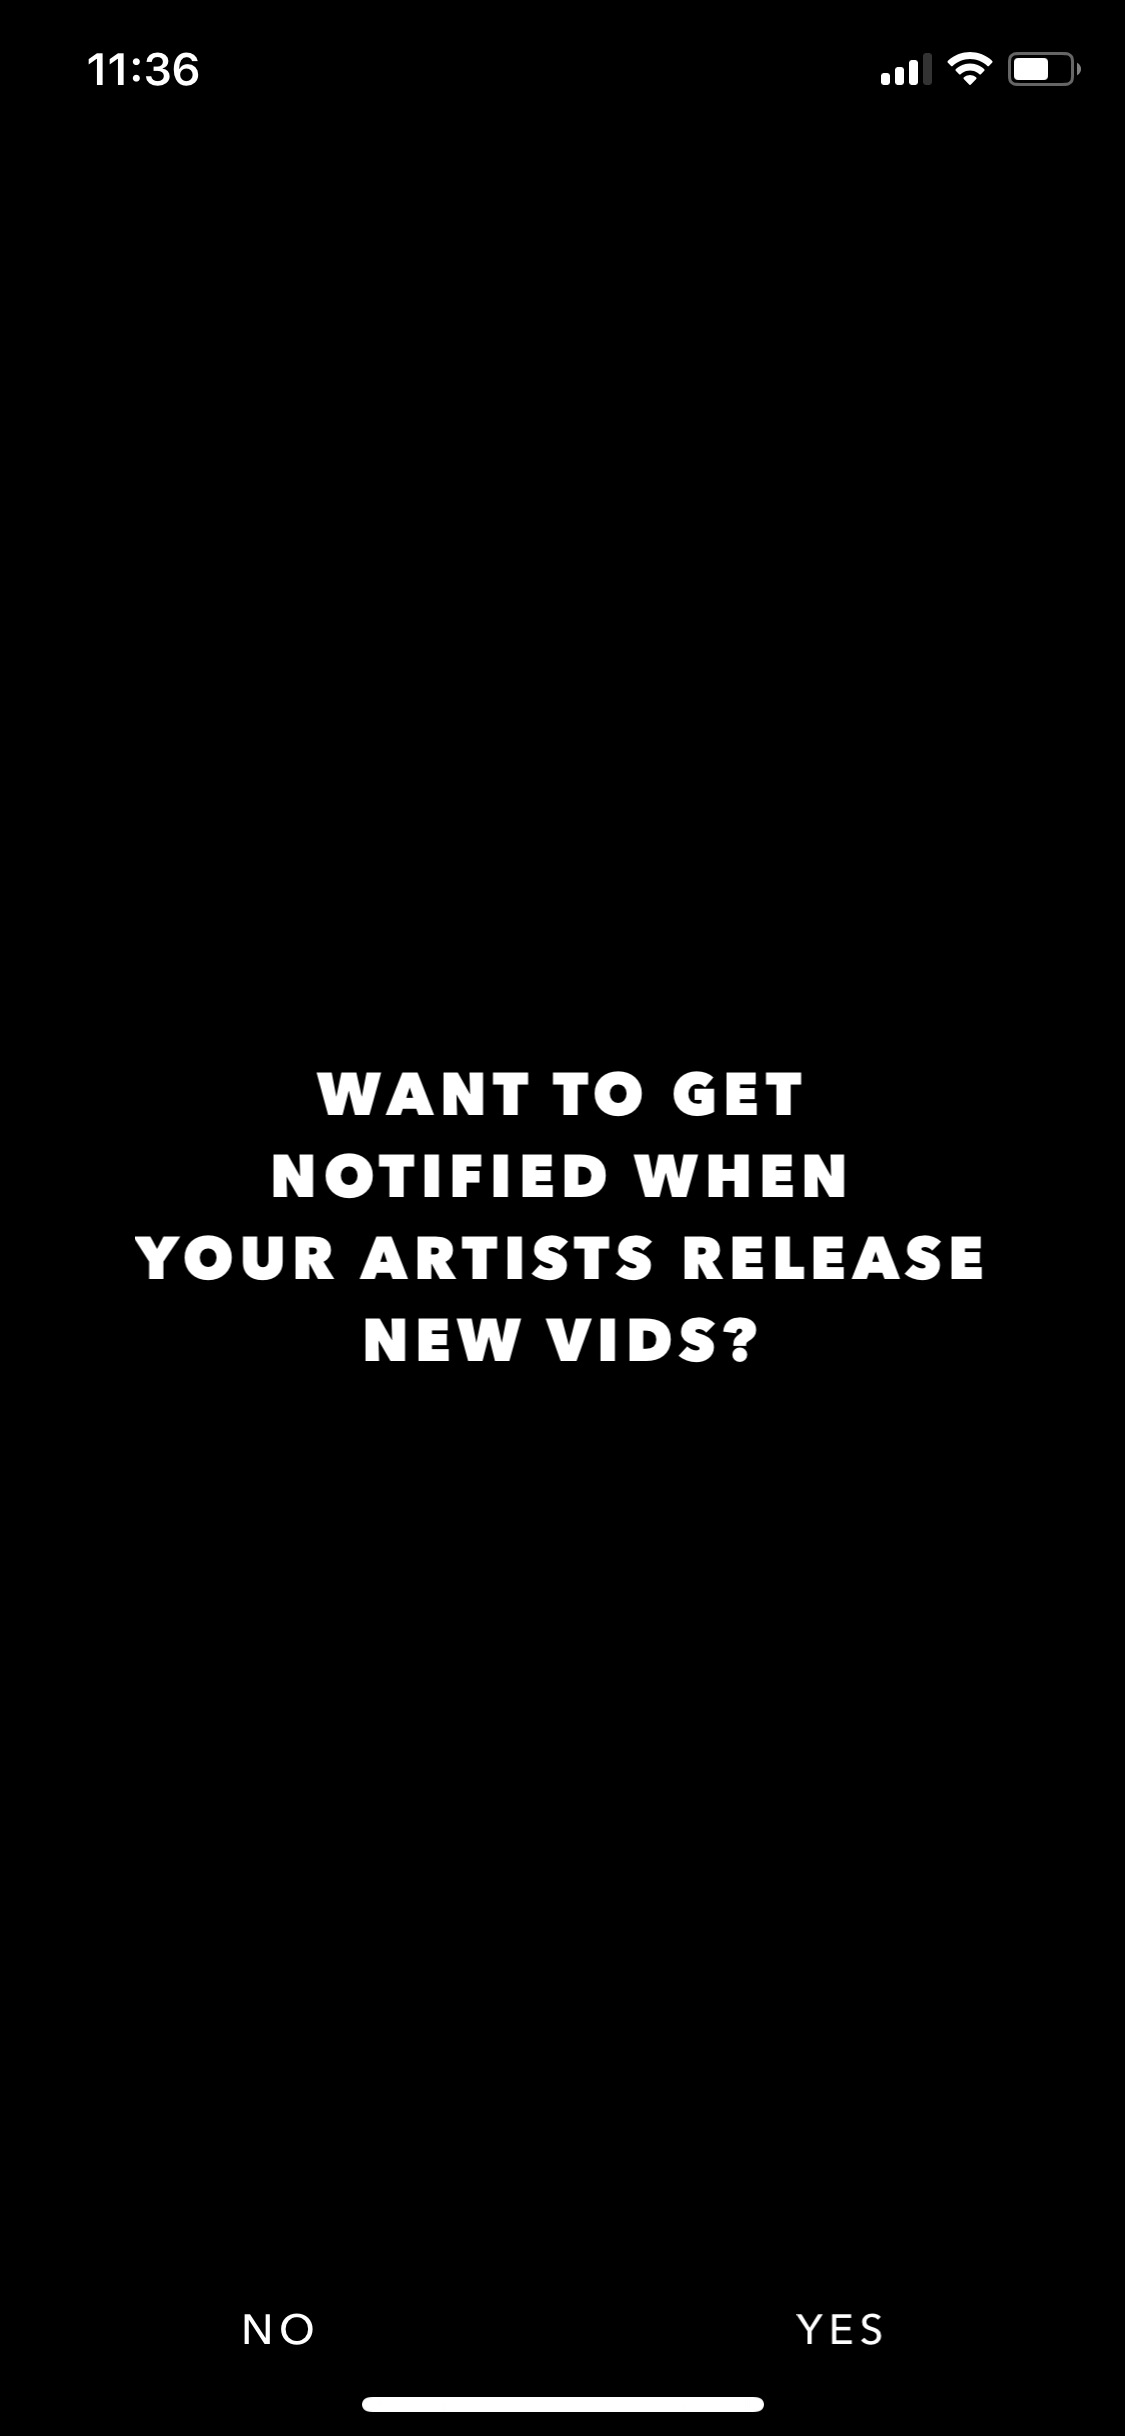Buttons: (148, 2242, 430, 2382), (716, 2245, 970, 2382)
